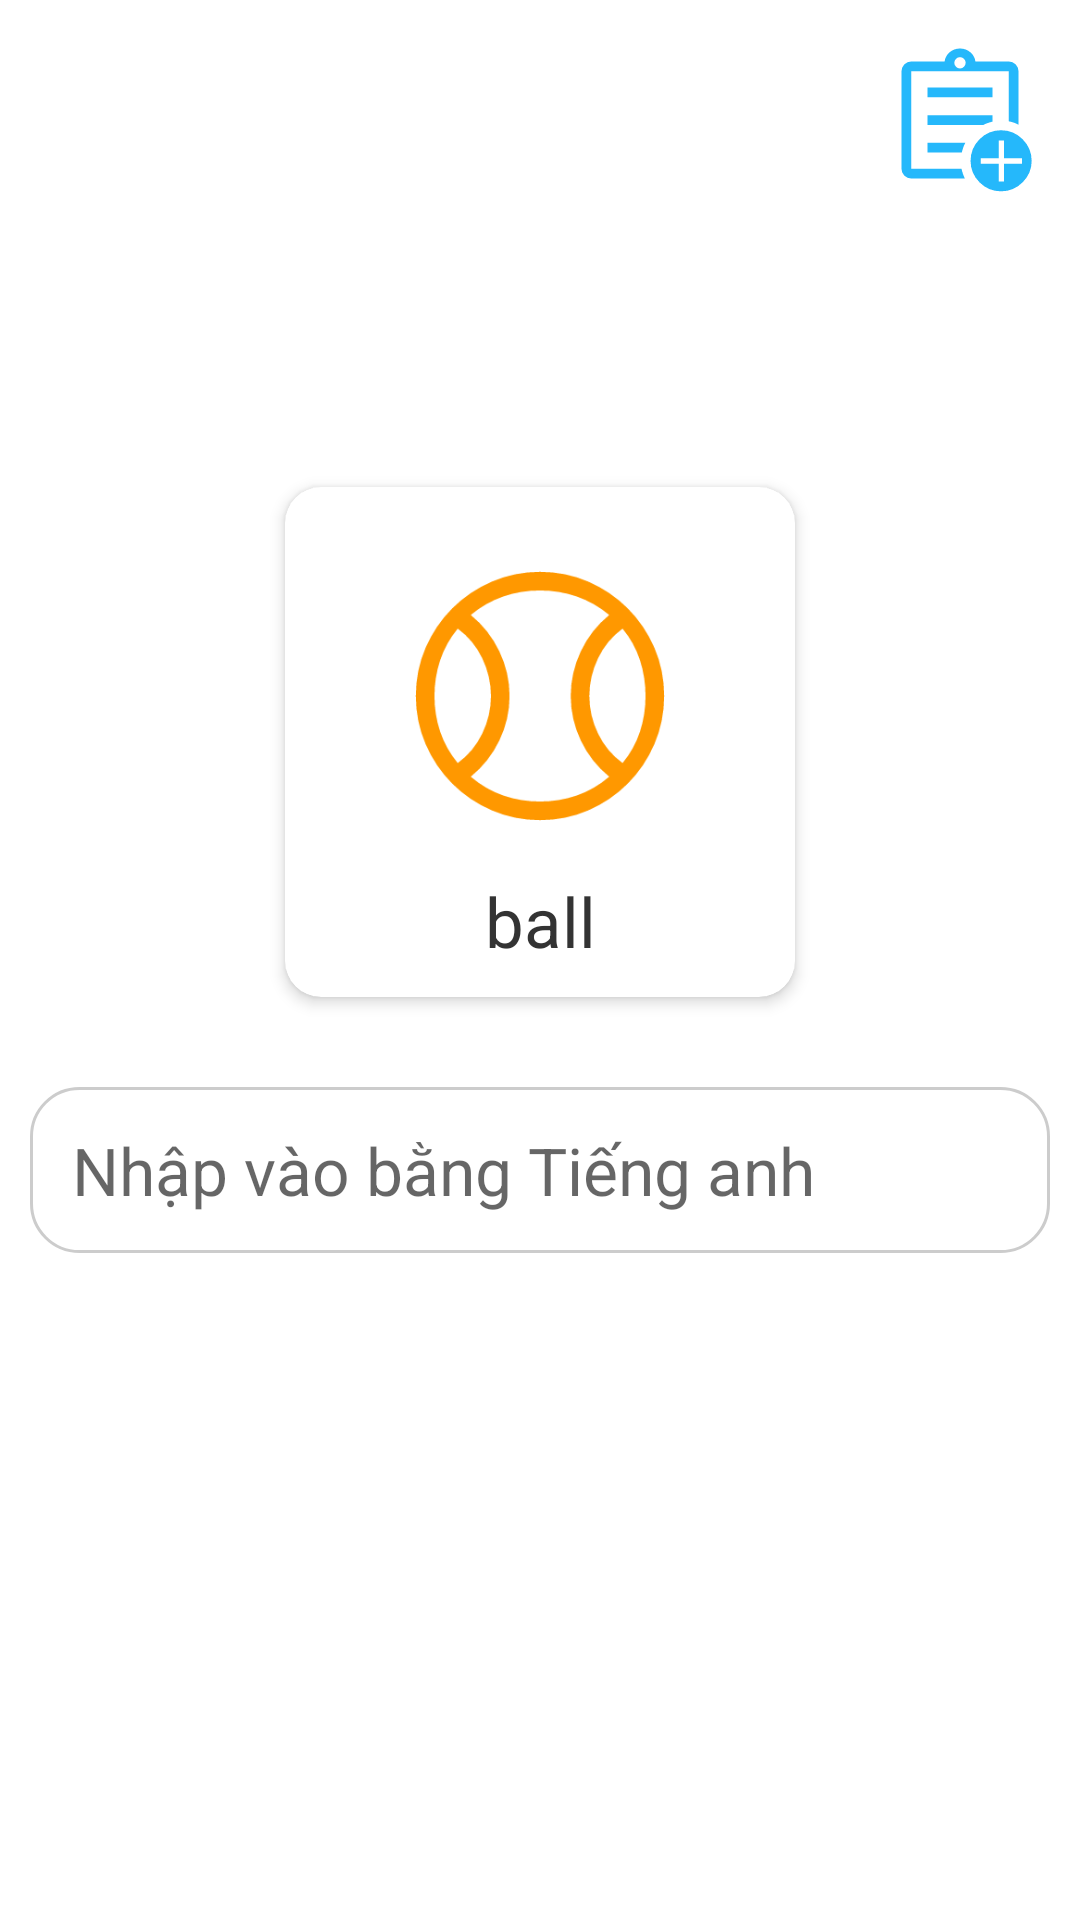

Icon bounding boxes for this 1080x1920 phone screenshot, format (x1, y1, x2, y2):
home add to note: (901, 48, 1032, 192)
